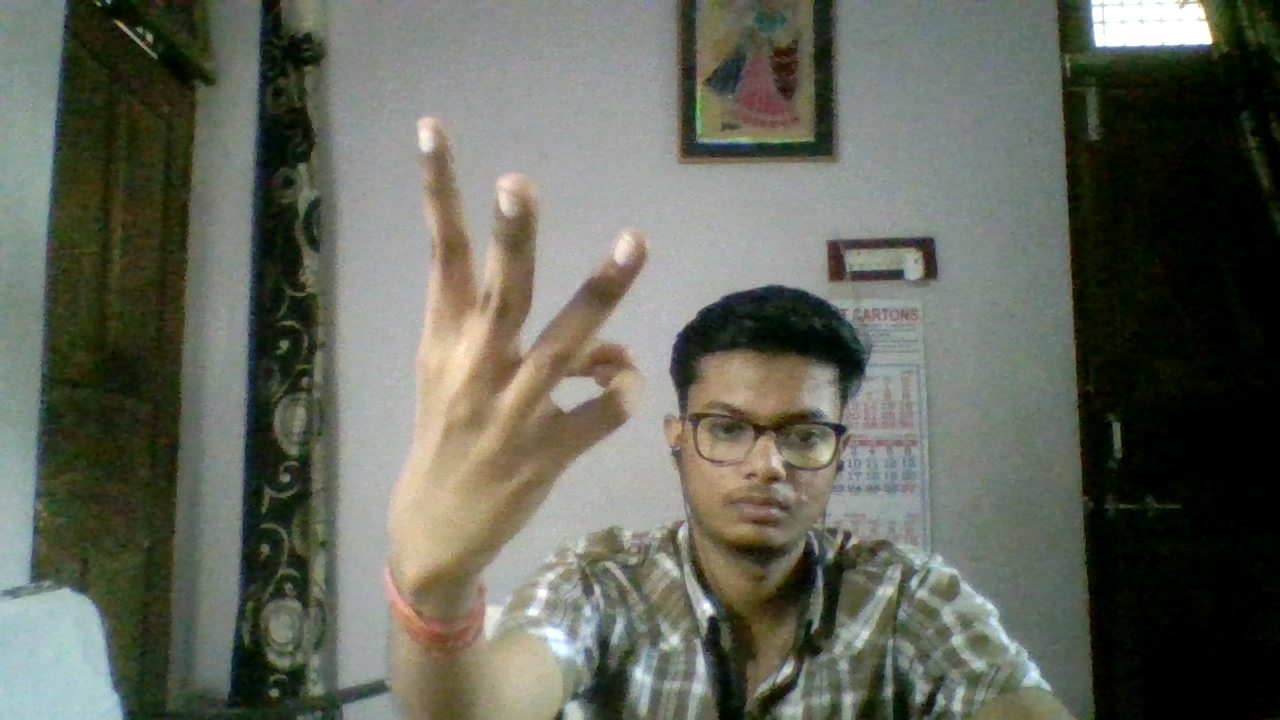three: (343, 94, 658, 648)
